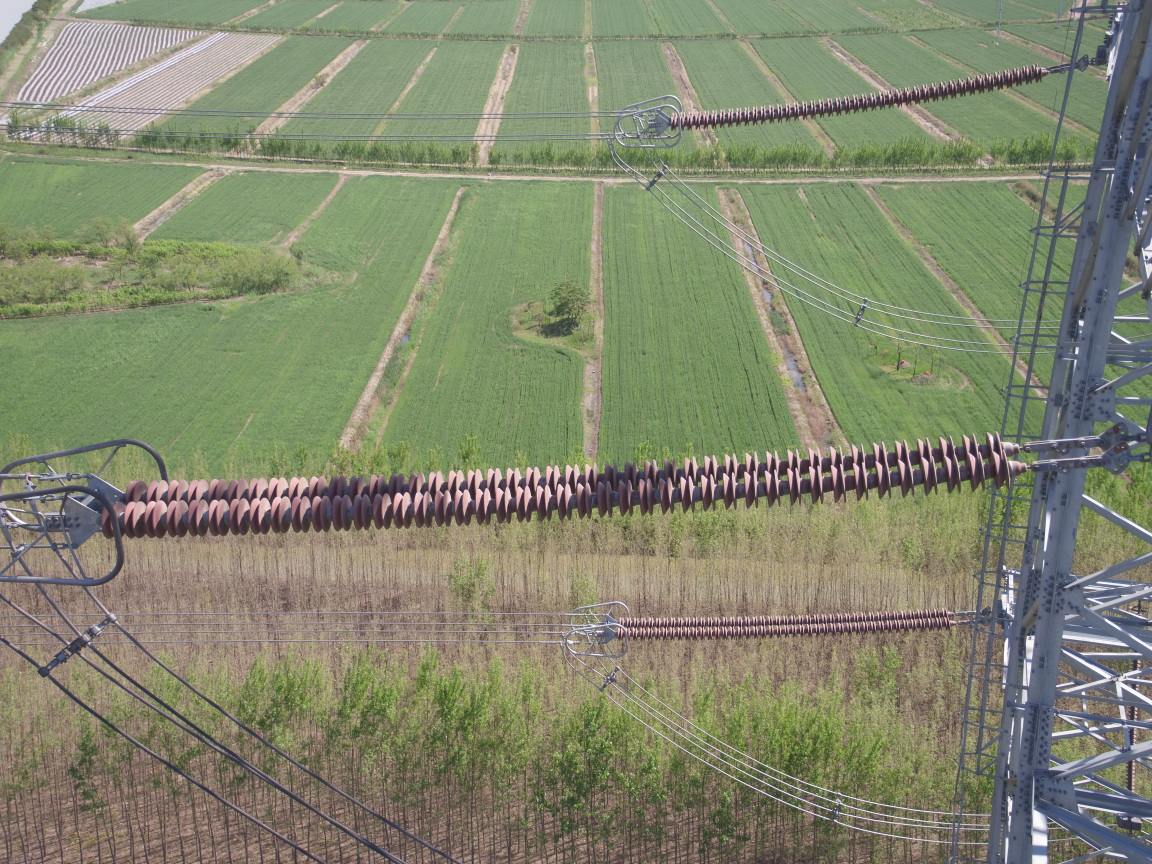insulator: (87, 427, 1080, 544), (665, 59, 1063, 132), (611, 606, 972, 642)
